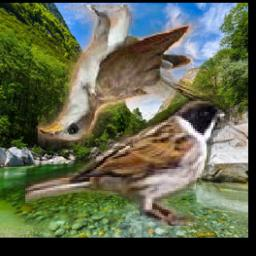Cuckoo: (39, 5, 247, 150)
Sparrow: (26, 95, 231, 226)
